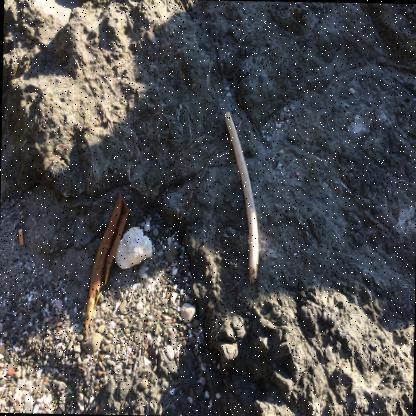Cigarette: (18, 228, 23, 245)
Styrofoam piece: (114, 226, 152, 269)
